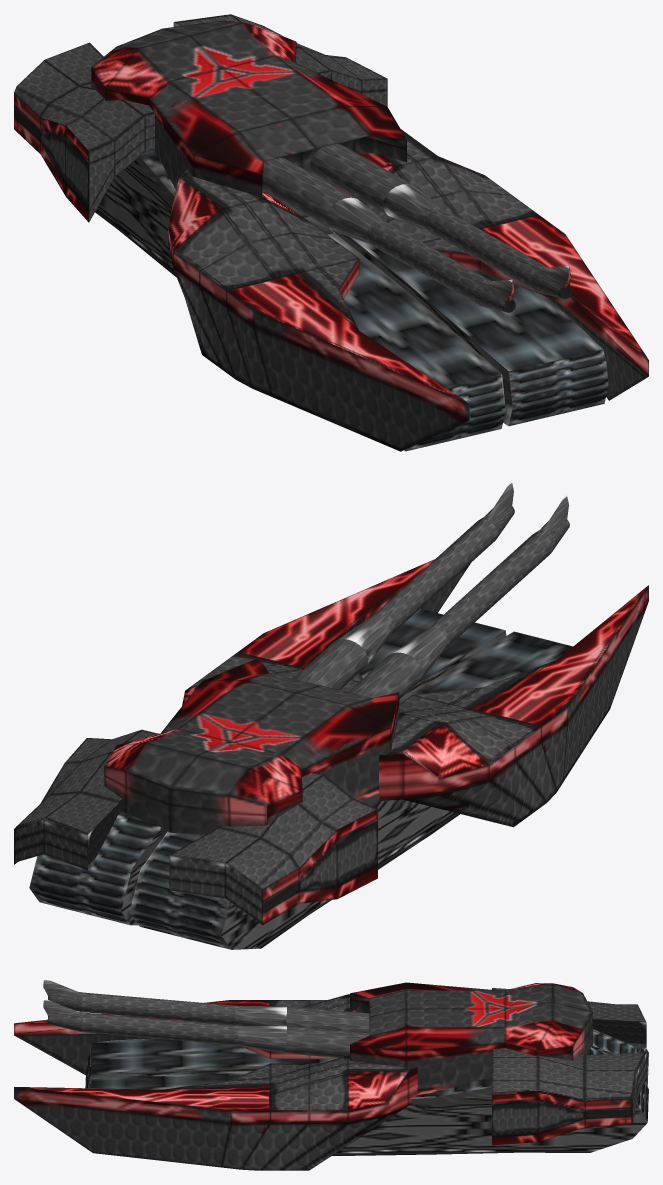
Rendered from V_Art Land.obj.
The picture shows the model from 3 angles, top to bottom: view 1: azimuth 30°, elevation 25°; view 2: azimuth 150°, elevation 25°; view 3: azimuth 270°, elevation 25°; orthographic projection. The views are drawn at different scales.
Parts seen in each view (by area): view 1: polySurface13 polySurface12 polySurface11 polySurface9 polySurfa, pCube3, pCylinder5, pCylinder6, polySurface12 polySurface11 polySurface9 polySurface4 polySurfac, pCube5 polySurface6, polySurface7 pCylinder2, pCylinder2 polySurface8, polySurface5 pCube5; view 2: pCube3, polySurface13 polySurface12 polySurface11 polySurface9 polySurfa, pCube5 polySurface6, pCylinder5, pCylinder6, polySurface5 pCube5, polySurface7 pCylinder2, pCylinder2 polySurface8, polySurface12 polySurface11 polySurface9 polySurface4 polySurfac; view 3: polySurface12 polySurface11 polySurface9 polySurface4 polySurfac, pCube3, pCylinder6, polySurface5 pCube5, polySurface7 pCylinder2, pCylinder5, pCylinder2 polySurface8, polySurface13 polySurface12 polySurface11 polySurface9 polySurfa, pCube5 polySurface6.
Part boxes in pixels (x1,y1,x2,y2): polySurface13 polySurface12 polySurface11 polySurface9 polySurfa: (168,169,469,451); pCube3: (91,20,406,217); pCylinder5: (95,150,505,451); pCylinder6: (331,229,608,426); polySurface12 polySurface11 polySurface9 polySurface4 polySurfac: (332,129,648,400); pCube5 polySurface6: (14,42,154,222); polySurface7 pCylinder2: (310,144,572,298); pCylinder2 polySurface8: (262,157,515,312); polySurface5 pCube5: (173,14,387,106); pCube3: (104,658,399,839); polySurface13 polySurface12 polySurface11 polySurface9 polySurfa: (379,585,648,827); pCube5 polySurface6: (169,771,378,925); pCylinder5: (129,631,572,949); pCylinder6: (29,608,506,925); polySurface5 pCube5: (14,729,158,870); polySurface7 pCylinder2: (293,480,514,689); pCylinder2 polySurface8: (348,494,569,699); polySurface12 polySurface11 polySurface9 polySurface4 polySurfac: (182,559,470,705); polySurface12 polySurface11 polySurface9 polySurface4 polySurfac: (14,1055,417,1170); pCube3: (350,982,592,1094); pCylinder6: (90,1047,648,1155); polySurface5 pCube5: (492,1048,646,1145); polySurface7 pCylinder2: (43,998,369,1057); pCylinder5: (85,1029,648,1088); pCylinder2 polySurface8: (43,978,369,1033); polySurface13 polySurface12 polySurface11 polySurface9 polySurfa: (14,994,360,1075); pCube5 polySurface6: (492,988,646,1048).
Bounding box in the file's own units: 1.97 × 1.09 × 4.75.
